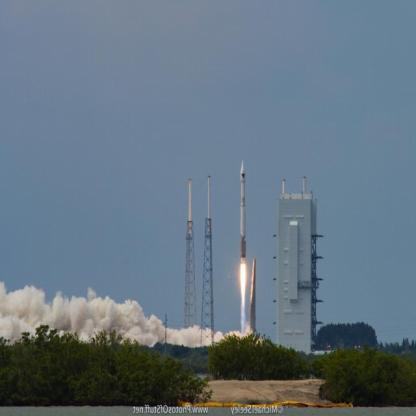MIL_TBM: (240, 157, 246, 265)
